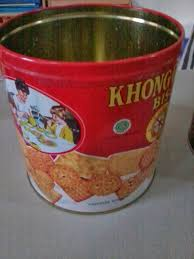metal: (1, 5, 187, 215)
